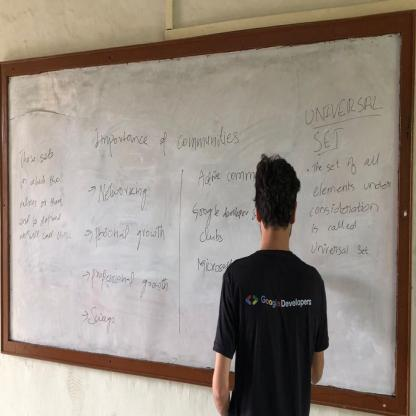Handwritten text: (94, 121, 245, 159), (300, 89, 389, 125), (90, 265, 170, 301), (92, 219, 171, 253), (97, 171, 152, 213), (308, 176, 394, 200), (187, 197, 249, 227), (309, 237, 372, 263), (313, 154, 386, 176), (307, 202, 381, 218), (18, 142, 54, 171), (88, 304, 116, 338), (14, 212, 66, 229), (308, 218, 360, 235), (17, 195, 67, 212), (18, 173, 64, 190), (196, 255, 230, 278), (314, 126, 341, 151), (197, 227, 225, 248)
Lecturer: (207, 147, 341, 416)
Whiteboard: (2, 22, 406, 407)
